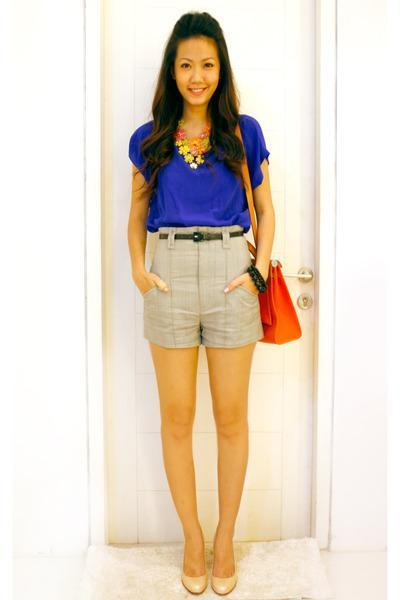bag: (228, 132, 299, 344)
shirt: (129, 115, 269, 232)
shoe: (179, 568, 237, 599)
shorts: (141, 225, 262, 351)
